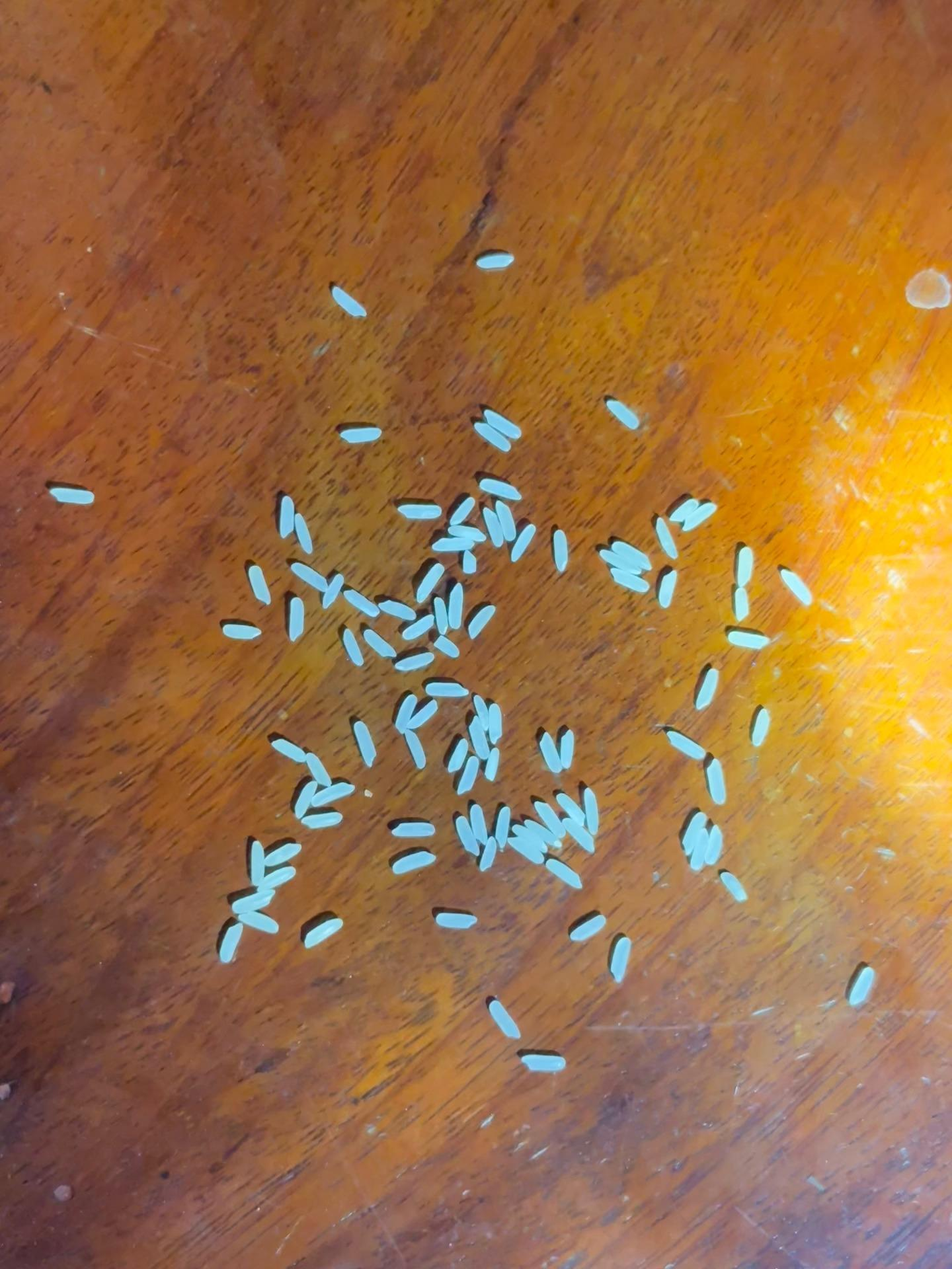Rice-th-y-nh: (303, 918, 343, 949), (534, 801, 565, 840), (489, 1001, 520, 1039), (612, 541, 652, 570), (781, 569, 812, 605), (668, 732, 706, 761), (416, 564, 444, 603), (563, 817, 594, 852), (546, 859, 582, 889), (475, 423, 512, 452), (291, 563, 328, 592), (484, 410, 522, 438), (354, 721, 377, 766), (332, 287, 366, 317), (682, 502, 717, 531), (525, 819, 560, 848), (231, 891, 275, 914), (508, 836, 544, 864), (312, 783, 354, 807), (219, 923, 244, 963), (510, 524, 536, 562), (467, 605, 496, 639), (695, 669, 719, 710), (600, 550, 641, 574), (256, 866, 295, 891), (468, 716, 490, 760), (849, 968, 874, 1006), (611, 568, 649, 593), (393, 852, 436, 874), (238, 911, 279, 934), (306, 752, 332, 788), (570, 916, 606, 942), (556, 793, 585, 825), (606, 400, 639, 428), (655, 519, 678, 559), (539, 733, 562, 773), (689, 828, 710, 871), (611, 938, 631, 983), (407, 700, 438, 729), (456, 817, 479, 856), (394, 695, 417, 734), (683, 813, 706, 852), (345, 590, 378, 617), (483, 507, 505, 547), (457, 757, 480, 795), (249, 566, 272, 604), (364, 630, 395, 658), (480, 479, 521, 500), (707, 760, 727, 803), (294, 781, 317, 818), (264, 843, 301, 866), (469, 804, 490, 844), (402, 615, 435, 640), (405, 730, 426, 768), (278, 496, 297, 538), (272, 739, 306, 762), (583, 789, 600, 835), (721, 872, 747, 902), (496, 501, 516, 540), (705, 825, 724, 865), (343, 629, 364, 665), (249, 841, 266, 885), (379, 600, 416, 620), (658, 571, 678, 608), (522, 1055, 565, 1072), (432, 536, 475, 553), (521, 825, 548, 852), (449, 498, 475, 526), (322, 575, 344, 608), (448, 524, 486, 543), (736, 547, 754, 587), (448, 584, 464, 629), (447, 739, 468, 773), (50, 488, 94, 504), (289, 597, 305, 641), (424, 682, 468, 698), (752, 709, 771, 746), (295, 514, 313, 553), (728, 632, 767, 650), (487, 704, 505, 743), (478, 837, 498, 872), (392, 822, 434, 838), (670, 499, 699, 522), (396, 653, 433, 671), (495, 807, 511, 848), (398, 505, 441, 520), (436, 913, 476, 929), (340, 428, 381, 443), (301, 813, 342, 828), (473, 695, 491, 729), (553, 530, 568, 570), (433, 597, 449, 634), (734, 587, 751, 621), (434, 635, 459, 658), (560, 731, 575, 769), (485, 747, 501, 781), (223, 625, 260, 639), (477, 255, 513, 268), (463, 551, 477, 574)
